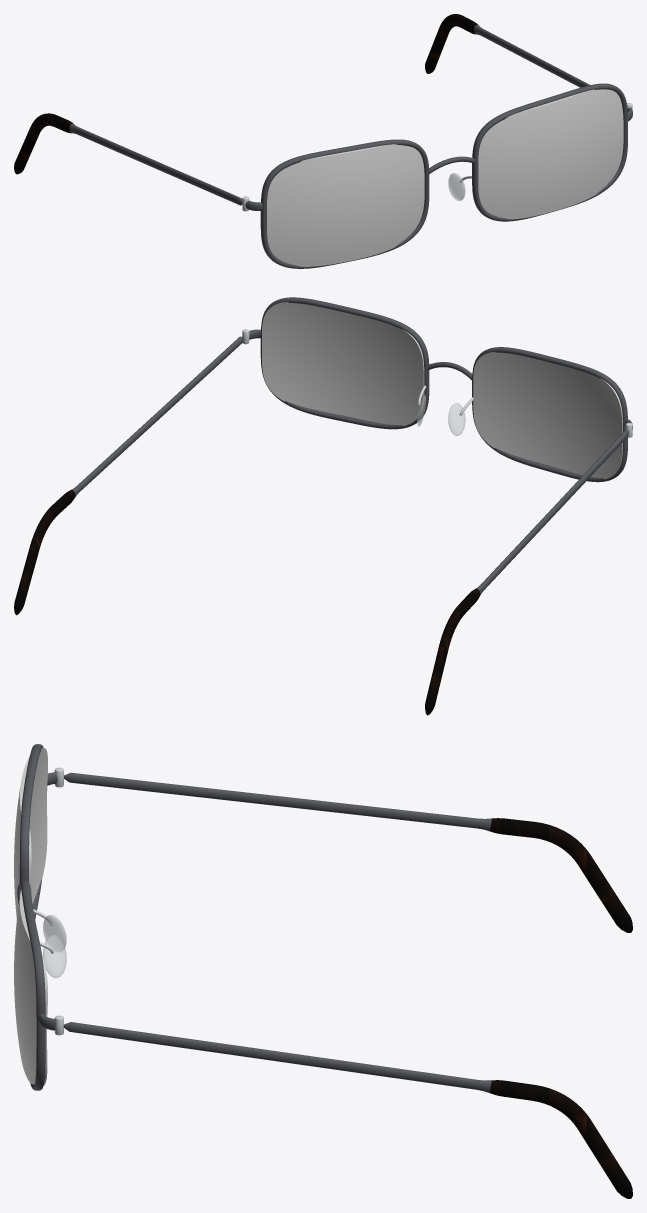
Rendered from finn-m.glb.
The picture shows the model from 3 angles, top to bottom: view 1: azimuth 30°, elevation 25°; view 2: azimuth 150°, elevation 25°; view 3: azimuth 270°, elevation 25°; orthographic projection. The views are drawn at different scales.
Visible parts, largest first — view 1: Lens_R, Lens_L, Front, Temple_R, Temple_L, NosePads; view 2: Lens_L, Lens_R, Front, Temple_L, Temple_R, NosePads; view 3: Temple_L, Temple_R, Front, Lens_L, Lens_R, NosePads.
Boxes of the visible parts, x1,y1,x2,y2 form: Lens_R: (267,144,424,266); Lens_L: (478,89,623,219); Front: (242,83,632,268); Temple_R: (14,113,242,205); Temple_L: (425,14,590,87); NosePads: (448,173,465,200); Lens_L: (262,302,424,425); Lens_R: (473,352,622,479); Front: (242,297,632,482); Temple_L: (14,336,243,615); Temple_R: (425,430,628,715); NosePads: (417,395,465,435); Temple_L: (63,1022,632,1198); Temple_R: (64,772,632,932); Front: (17,744,63,1090); Lens_L: (14,884,47,1085); Lens_R: (14,748,47,919); NosePads: (43,915,66,978).
Size of the model in its own units: 0.1471 by 0.0562 by 0.1421.
Materials: 6 (1 with a texture image).
